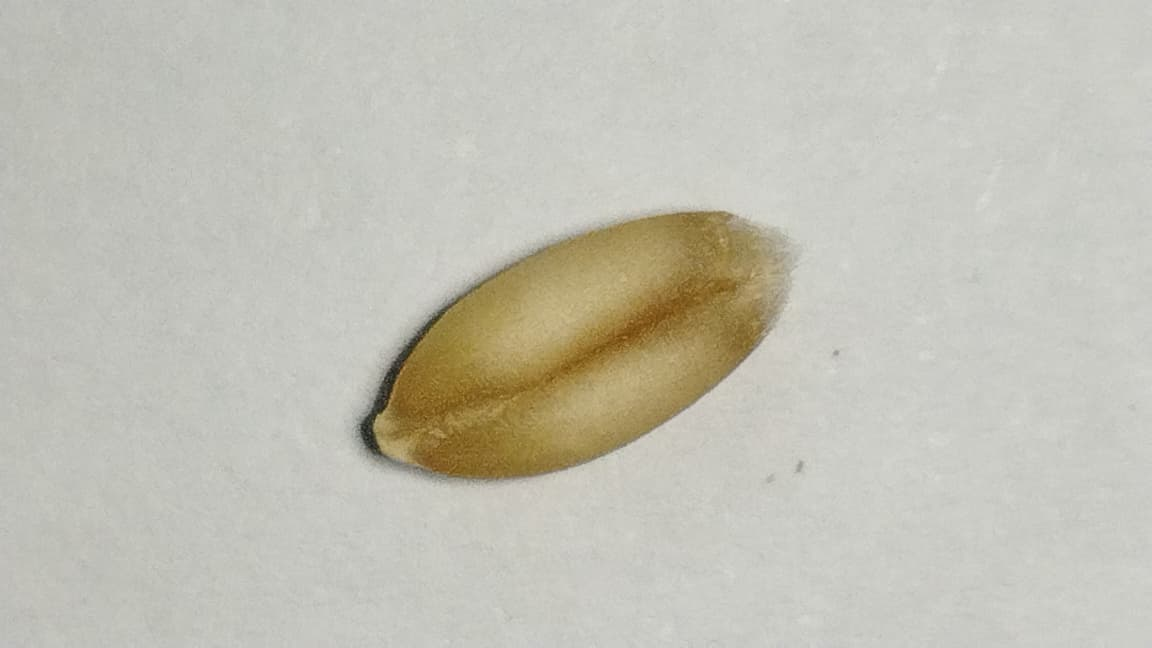healthy: (360, 207, 787, 487)
